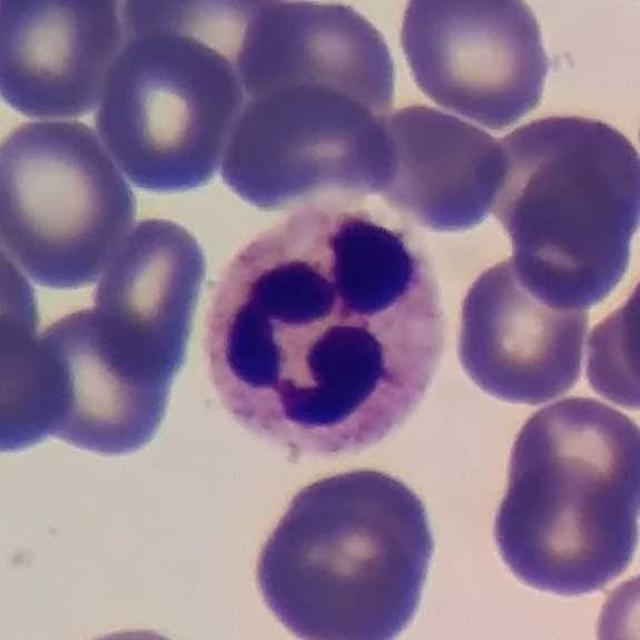Neutrophil: (190, 194, 458, 482)
RBC: (242, 455, 449, 640), (479, 389, 640, 603), (483, 100, 640, 313), (89, 27, 248, 200), (0, 110, 140, 291), (217, 79, 402, 215), (448, 250, 596, 408), (392, 0, 558, 128), (38, 308, 177, 458), (362, 98, 513, 236), (236, 1, 405, 119), (93, 214, 202, 389), (0, 219, 71, 474), (0, 0, 127, 122), (577, 260, 640, 415), (589, 563, 640, 640), (616, 250, 640, 407), (89, 617, 198, 640)
